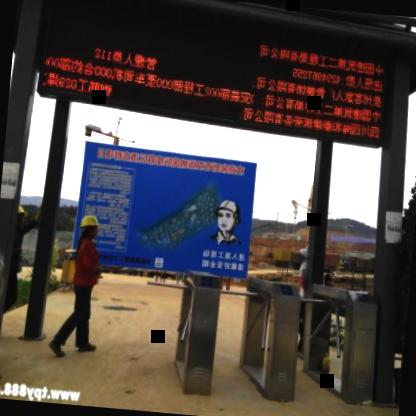helmet: (79, 212, 102, 248)
